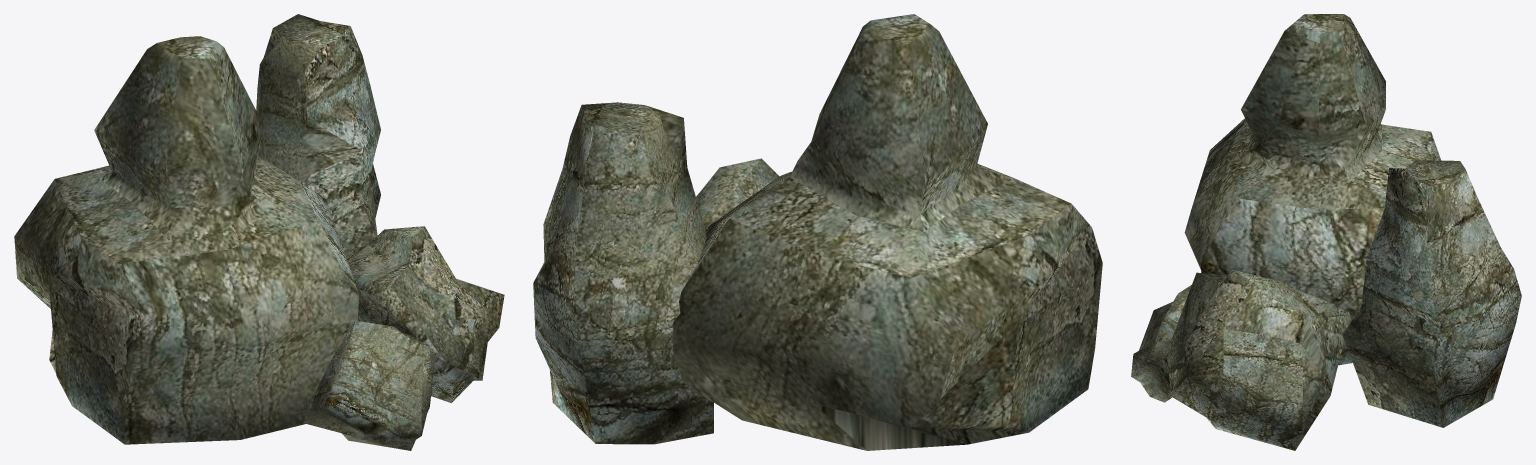
The model's file is geo_rock_set_02_temperate_stone_01.glb.
The picture shows the model from 3 angles, left to right: view 1: azimuth 30°, elevation 25°; view 2: azimuth 150°, elevation 25°; view 3: azimuth 270°, elevation 25°; orthographic projection. The views are drawn at different scales.
Parts seen in each view (by area): view 1: geo_rock_set_02_temperate_stone_01; view 2: geo_rock_set_02_temperate_stone_01; view 3: geo_rock_set_02_temperate_stone_01.
Boxes of the visible parts, bbox=[...] form: geo_rock_set_02_temperate_stone_01: bbox=[14, 14, 504, 450]; geo_rock_set_02_temperate_stone_01: bbox=[533, 14, 1102, 450]; geo_rock_set_02_temperate_stone_01: bbox=[1131, 14, 1521, 450].
Size of the model in its own units: 6.62 by 6.02 by 6.33.
Materials: 1 (1 with a texture image).
